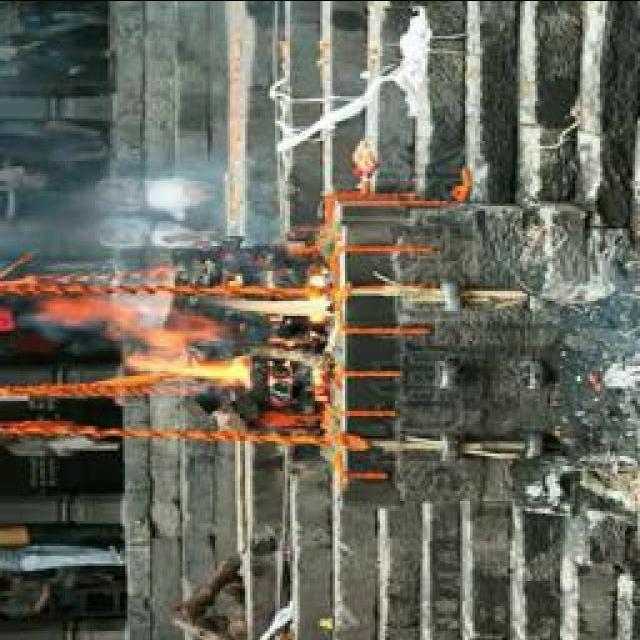Fire: (42, 286, 332, 382)
